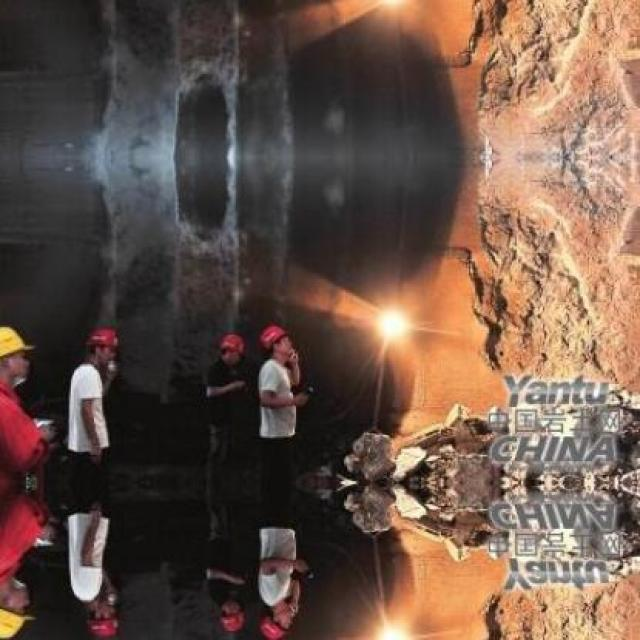helmet: (1, 581, 34, 637), (1, 325, 32, 383), (86, 322, 120, 367), (86, 597, 122, 637), (257, 322, 290, 362), (256, 603, 290, 637), (218, 331, 246, 362), (218, 603, 246, 634)
